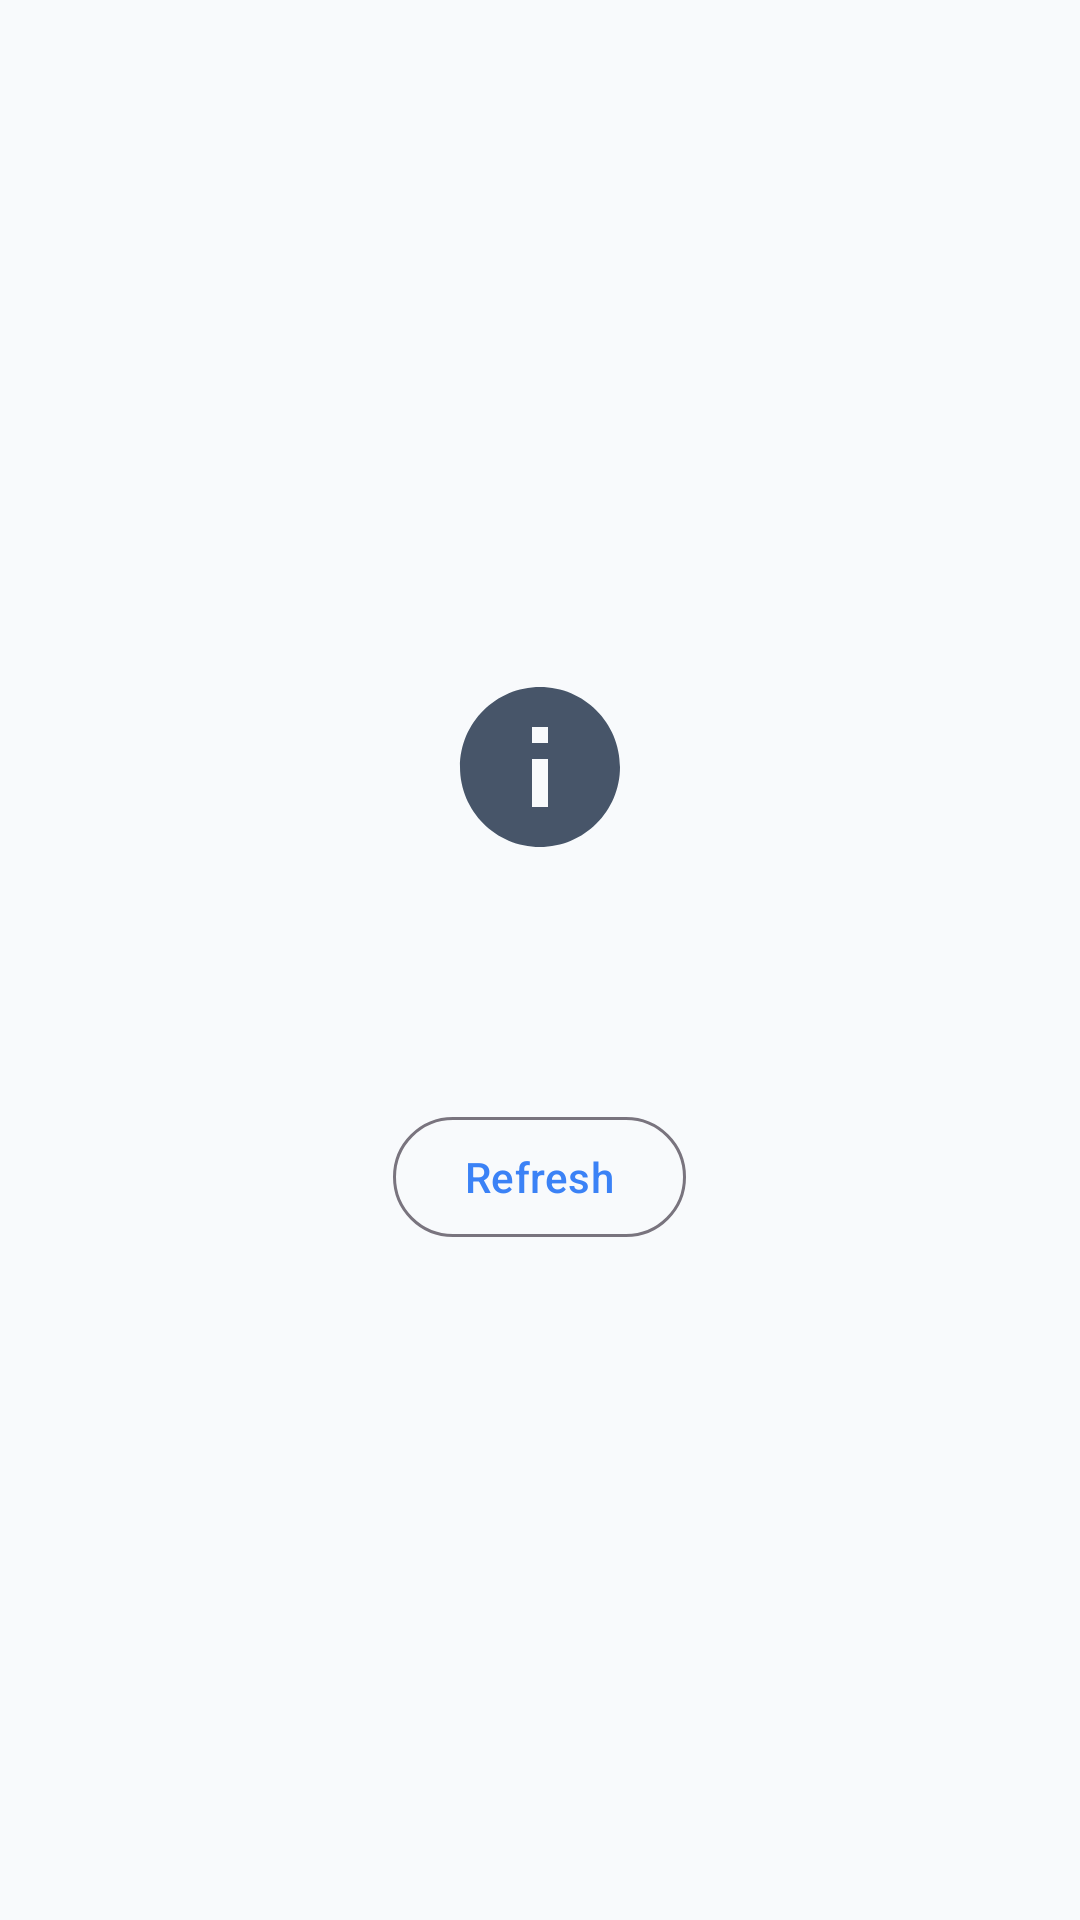

Where icons sit on this 1080 x 1920 app screen, as BBox(x1, y1, x2, y2):
info: BBox(460, 687, 620, 847)
